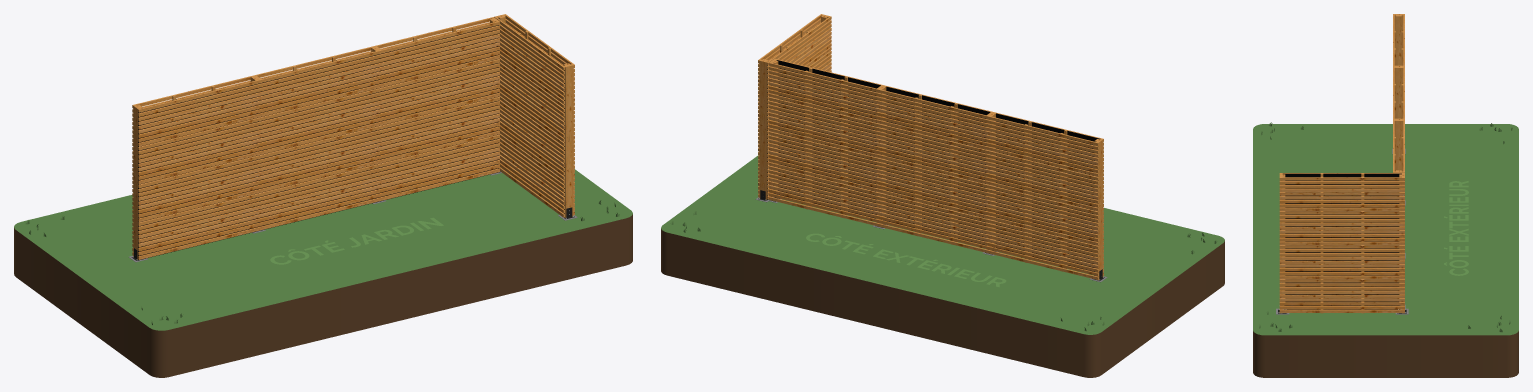
File: glb-240.glb
3 renders of one model, left to right at view 1: azimuth 30°, elevation 25°; view 2: azimuth 150°, elevation 25°; view 3: azimuth 270°, elevation 25°, orthographic. The views are drawn at different scales.
Parts seen in each view (by area): view 1: Scène_Sol, Panneau_10_Sol, Panneau_1_Sol, Panneau_4_Sol, Panneau_7_Sol, Panneau_12_Sol, Panneau_11_Sol, Panneau_3_Sol, Panneau_6_Sol, Panneau_9_Sol, Panneau_8_Sol, Panneau_2_Sol (+24 smaller); view 2: Scène_Sol, Panneaux_2ème_Face_12_Sol, Panneaux_2ème_Face_3_Sol, Panneaux_2ème_Face_9_Sol, Panneaux_2ème_Face_6_Sol, Panneaux_2ème_Face_11_Sol, Panneaux_2ème_Face_2_Sol, Panneaux_2ème_Face_5_Sol, Panneaux_2ème_Face_8_Sol, Panneaux_2ème_Face_10_Sol, Panneaux_2ème_Face_7_Sol, Panneaux_2ème_Face_4_Sol (+18 smaller); view 3: Scène_Sol, Panneaux_2ème_Face_16_Sol, Panneaux_2ème_Face_14_Sol, Panneaux_2ème_Face_15_Sol, Panneaux_2ème_Face_13_Sol, Occultant_16_Sol, Occultant_13_Sol, Côté Extérieur Label_Sol, Occultant_14_Sol, Occultant_15_Sol, Poteau_2_Sol, Poteau_3_Sol (+1 smaller).
Part boxes in pixels (x1,y1,x2,y2): Scène_Sol: [14, 169, 632, 377]; Panneau_10_Sol: [137, 79, 259, 146]; Panneau_1_Sol: [137, 193, 259, 259]; Panneau_4_Sol: [137, 155, 259, 221]; Panneau_7_Sol: [137, 117, 259, 184]; Panneau_12_Sol: [378, 20, 499, 87]; Panneau_11_Sol: [258, 50, 379, 116]; Panneau_3_Sol: [379, 134, 499, 200]; Panneau_6_Sol: [379, 97, 499, 163]; Panneau_9_Sol: [379, 59, 499, 125]; Panneau_8_Sol: [259, 88, 379, 154]; Panneau_2_Sol: [259, 164, 379, 230]; Scène_Sol: [661, 155, 1224, 377]; Panneaux_2ème_Face_12_Sol: [988, 115, 1099, 176]; Panneaux_2ème_Face_3_Sol: [988, 219, 1099, 280]; Panneaux_2ème_Face_9_Sol: [988, 150, 1099, 211]; Panneaux_2ème_Face_6_Sol: [988, 185, 1099, 245]; Panneaux_2ème_Face_11_Sol: [878, 88, 989, 150]; Panneaux_2ème_Face_2_Sol: [878, 192, 988, 253]; Panneaux_2ème_Face_5_Sol: [878, 158, 988, 218]; Panneaux_2ème_Face_8_Sol: [878, 123, 988, 184]; Panneaux_2ème_Face_10_Sol: [769, 62, 879, 123]; Panneaux_2ème_Face_7_Sol: [769, 97, 879, 157]; Panneaux_2ème_Face_4_Sol: [769, 131, 879, 192]; Scène_Sol: [1253, 122, 1518, 377]; Panneaux_2ème_Face_16_Sol: [1279, 176, 1404, 211]; Panneaux_2ème_Face_14_Sol: [1279, 245, 1404, 279]; Panneaux_2ème_Face_15_Sol: [1279, 211, 1404, 245]; Panneaux_2ème_Face_13_Sol: [1279, 279, 1404, 313]; Occultant_16_Sol: [1283, 173, 1401, 207]; Occultant_13_Sol: [1285, 279, 1399, 309]; Côté Extérieur Label_Sol: [1444, 181, 1468, 275]; Occultant_14_Sol: [1285, 245, 1399, 275]; Occultant_15_Sol: [1285, 211, 1399, 241]; Poteau_2_Sol: [1396, 65, 1401, 118]; Poteau_3_Sol: [1396, 118, 1401, 170].
Size of the model in its own units: 8 by 3.15 by 4.25.
Materials: 8 (1 with a texture image).
